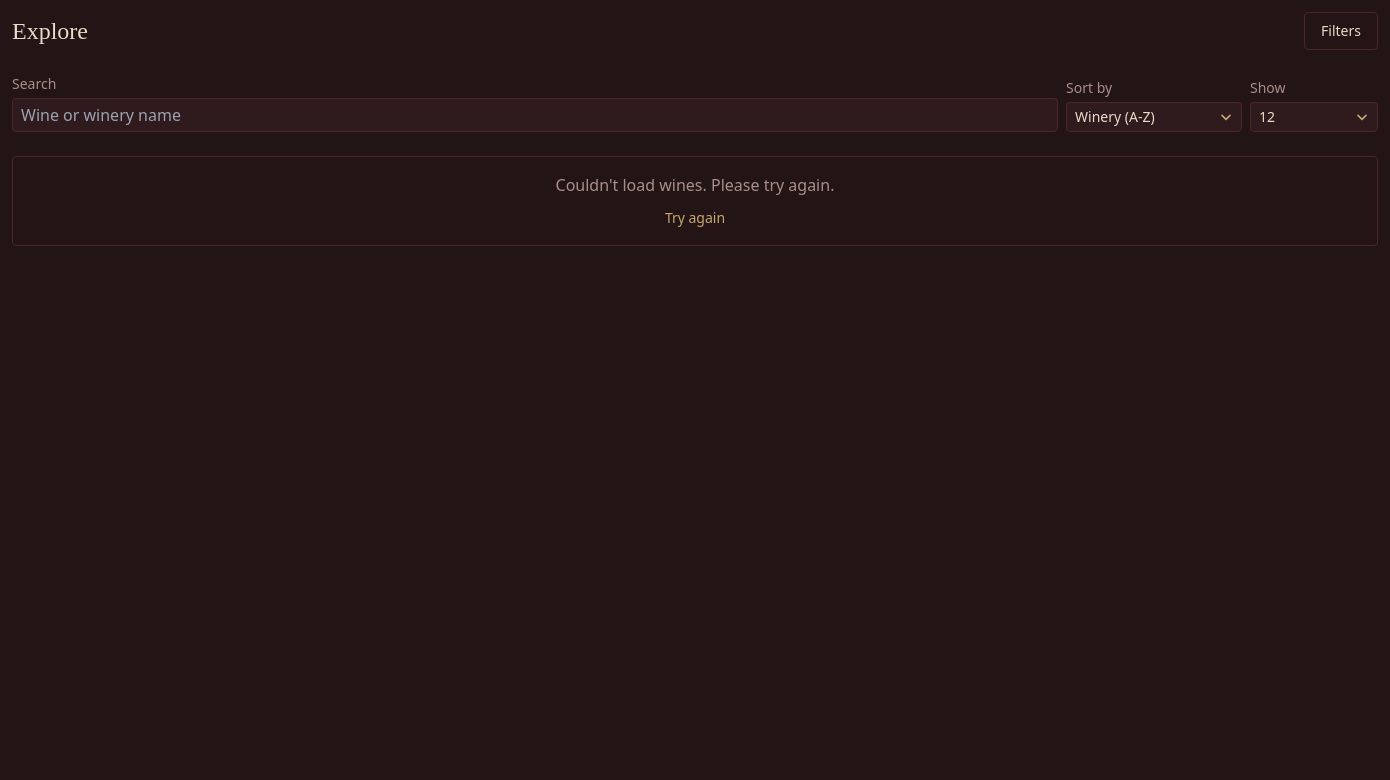
Scenario: ExplorePage › shows an error message with retry when the request fails
Expected: the text "Couldn't load wines. Please try again." is shown, [556, 174, 834, 196]
Click the button "Try again": (695,218) [665, 208, 725, 228]
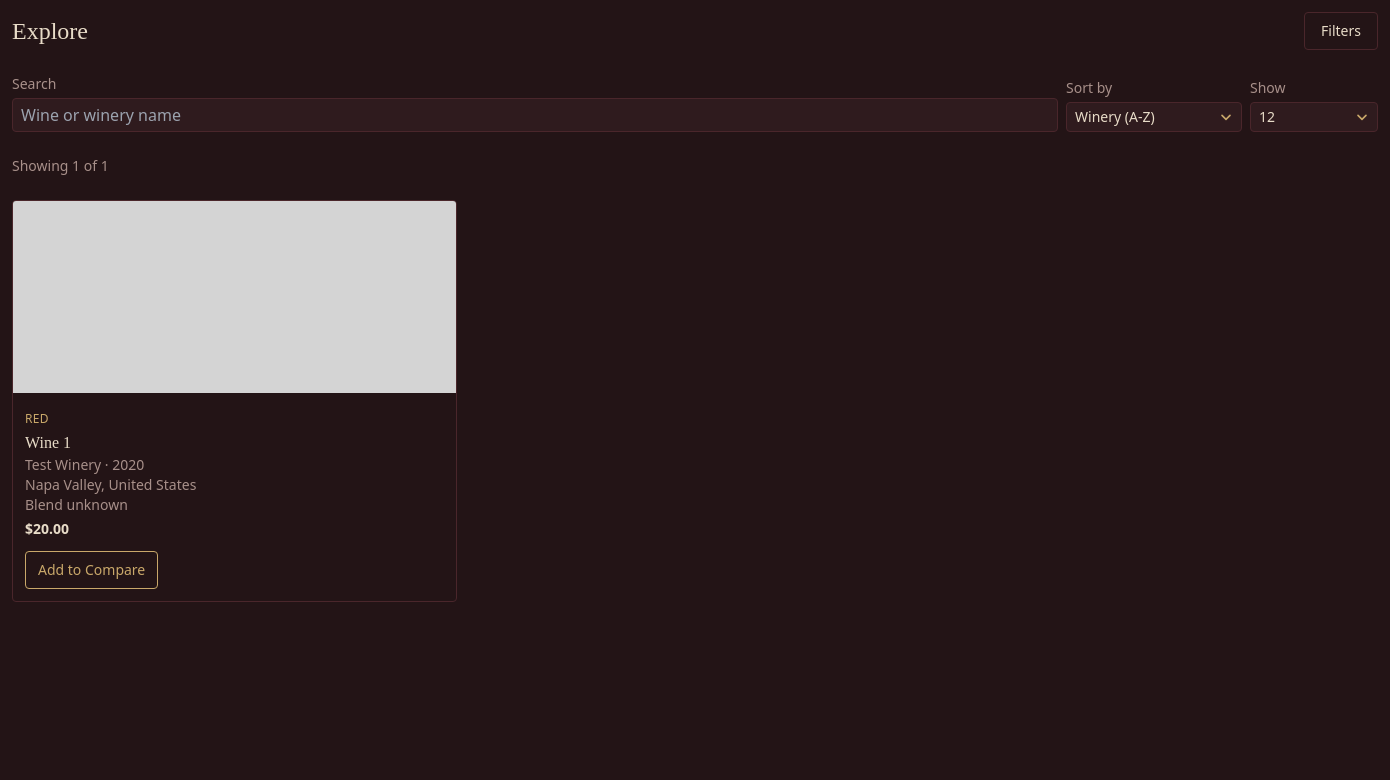
Expected: the link "Wine 1" is shown, [25, 434, 71, 451]
